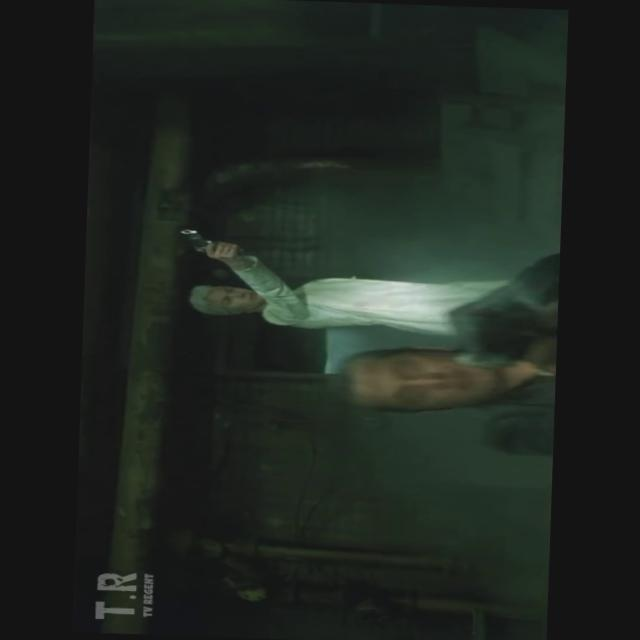handgun: (158, 222, 258, 264)
